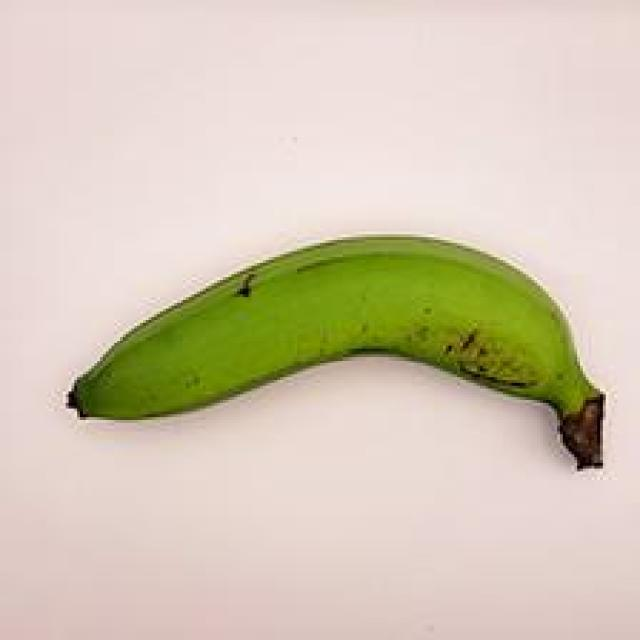Raw: (45, 211, 621, 507)
